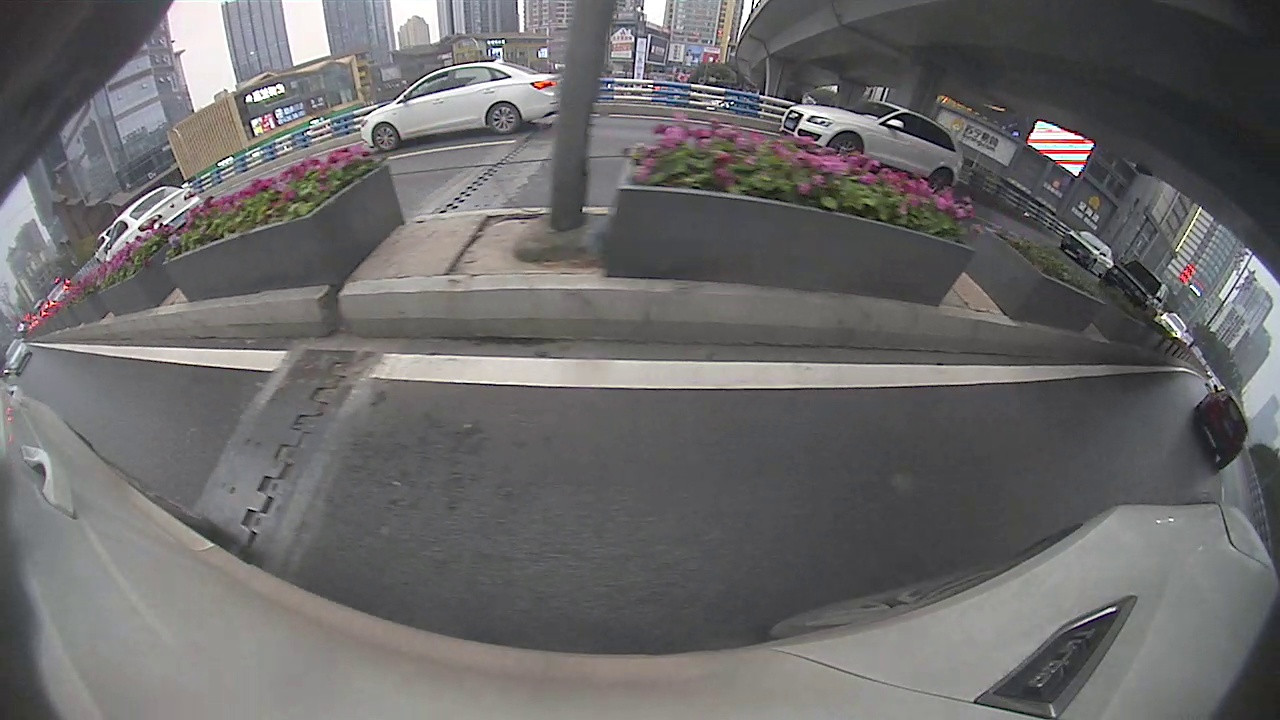car: (360, 58, 564, 153), (778, 97, 967, 187), (1192, 385, 1248, 470), (5, 339, 32, 376)
front: (370, 123, 403, 154), (827, 129, 866, 155)
rear: (487, 101, 522, 134), (928, 164, 957, 188)
